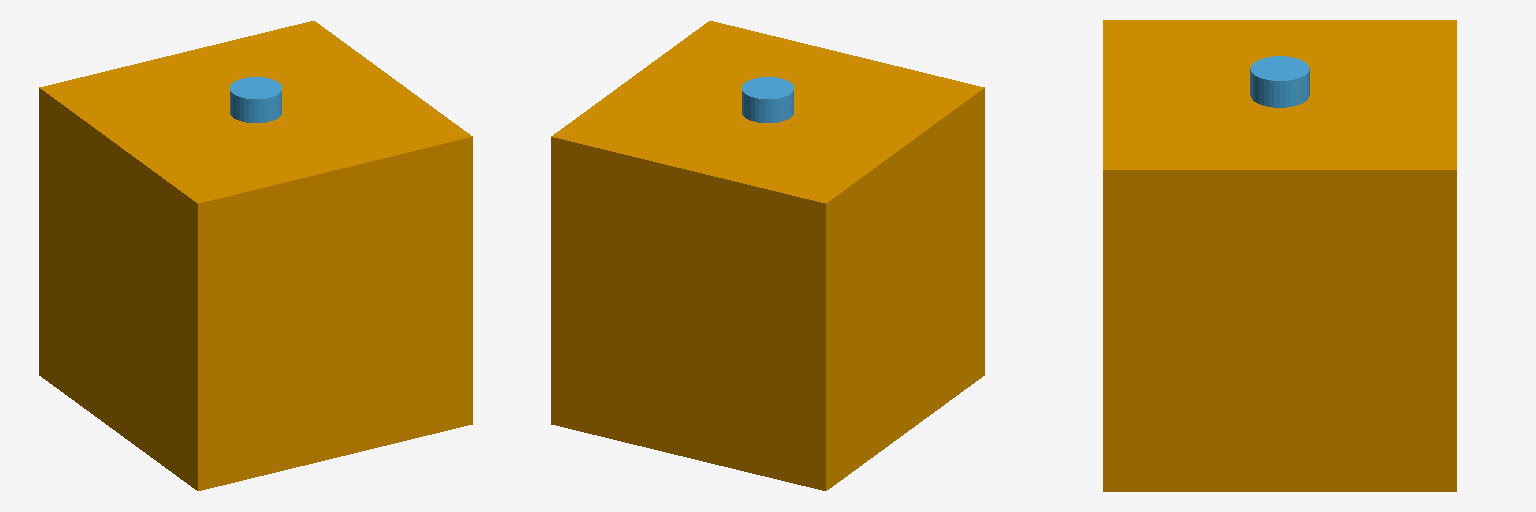
URDF robot description (myfirst):
<?xml version="1.0"?>
<robot name="myfirst">
  <link name="base_link">
    <visual>
      <geometry>
        <box size="0.12 0.12 0.12"/>
      </geometry>
    </visual>
  </link>

  <link name="connector_1">
    <visual>
      <geometry>
        <cylinder length="0.02" radius="0.01"/>
      </geometry>
    </visual>
  </link>

  <joint name="joint_1" type="fixed">
    <parent link="base_link"/>
    <child link="connector_1"/>
    <origin xyz="0 0 0.06"/>
  </joint>
</robot>

--- Facts derived from the render (not from the file) ---
Views: 3 orthographic renders of the robot side by side, from view 1: azimuth 30°, elevation 25°; view 2: azimuth 150°, elevation 25°; view 3: azimuth 270°, elevation 25°.
Robot: myfirst — 2 links, 1 joints (1 fixed); root link base_link; default pose: every joint at zero.
Visible links, largest first — view 1: base_link, connector_1; view 2: base_link, connector_1; view 3: base_link, connector_1.
Boxes of the visible links, bbox=[...] form: base_link: bbox=[39, 21, 472, 490]; connector_1: bbox=[230, 77, 281, 122]; base_link: bbox=[551, 21, 984, 490]; connector_1: bbox=[742, 77, 793, 122]; base_link: bbox=[1103, 20, 1456, 491]; connector_1: bbox=[1250, 56, 1309, 107].
Size in the robot's own frame: 0.12 by 0.12 by 0.13 metres.
Geometry: primitives only (box / cylinder / sphere), no mesh files.
